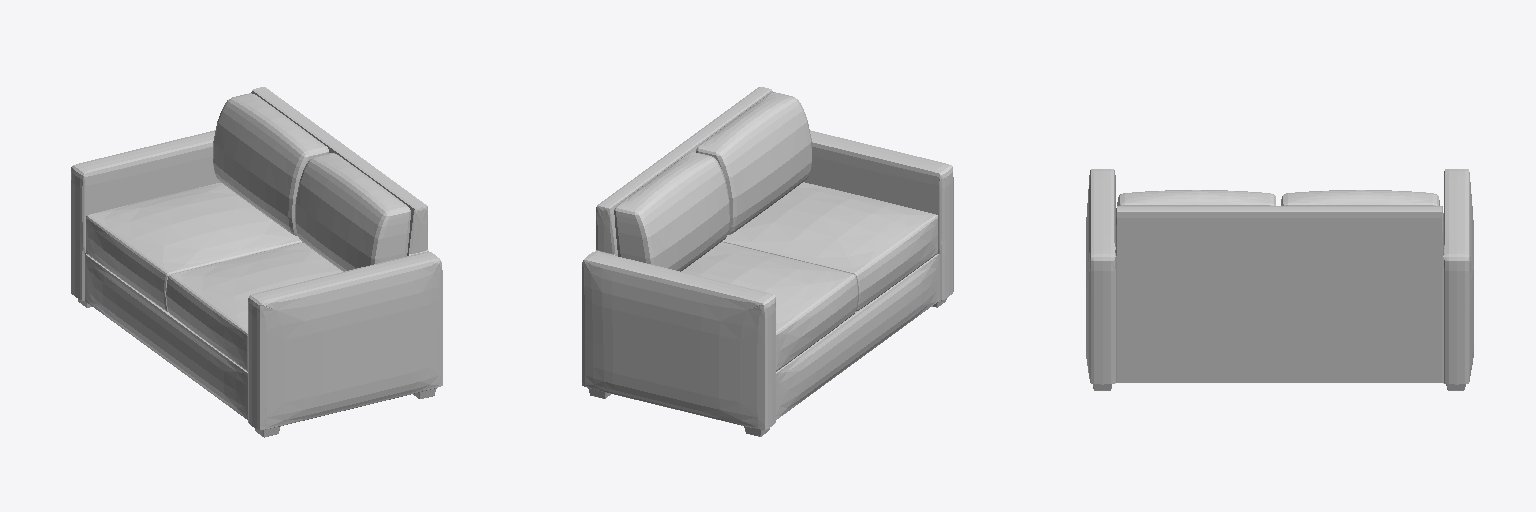
Rendered from lino_sofa.obj.
3 views of the same model, side by side, from view 1: azimuth 30°, elevation 25°; view 2: azimuth 150°, elevation 25°; view 3: azimuth 270°, elevation 25° (orthographic).
Visible parts, largest first — view 1: Rectangle03, Rectangle05, Rectangle07, Rectangle06, Rectangle04; view 2: Rectangle03, Rectangle04, Rectangle06, Rectangle07, Rectangle05; view 3: Rectangle03, Rectangle07, Rectangle06.
Part boxes in pixels (x1,y1,x2,y2): Rectangle03: (71, 87, 442, 429); Rectangle05: (86, 182, 301, 311); Rectangle07: (295, 153, 410, 271); Rectangle06: (213, 93, 328, 235); Rectangle04: (166, 242, 342, 371); Rectangle03: (582, 87, 953, 429); Rectangle04: (722, 182, 937, 311); Rectangle06: (614, 152, 729, 271); Rectangle07: (696, 92, 811, 234); Rectangle05: (681, 242, 858, 371); Rectangle03: (1086, 169, 1473, 384); Rectangle07: (1117, 190, 1275, 205); Rectangle06: (1281, 190, 1439, 205).
Size of the model in its own units: 40.94 by 38.98 by 73.75.